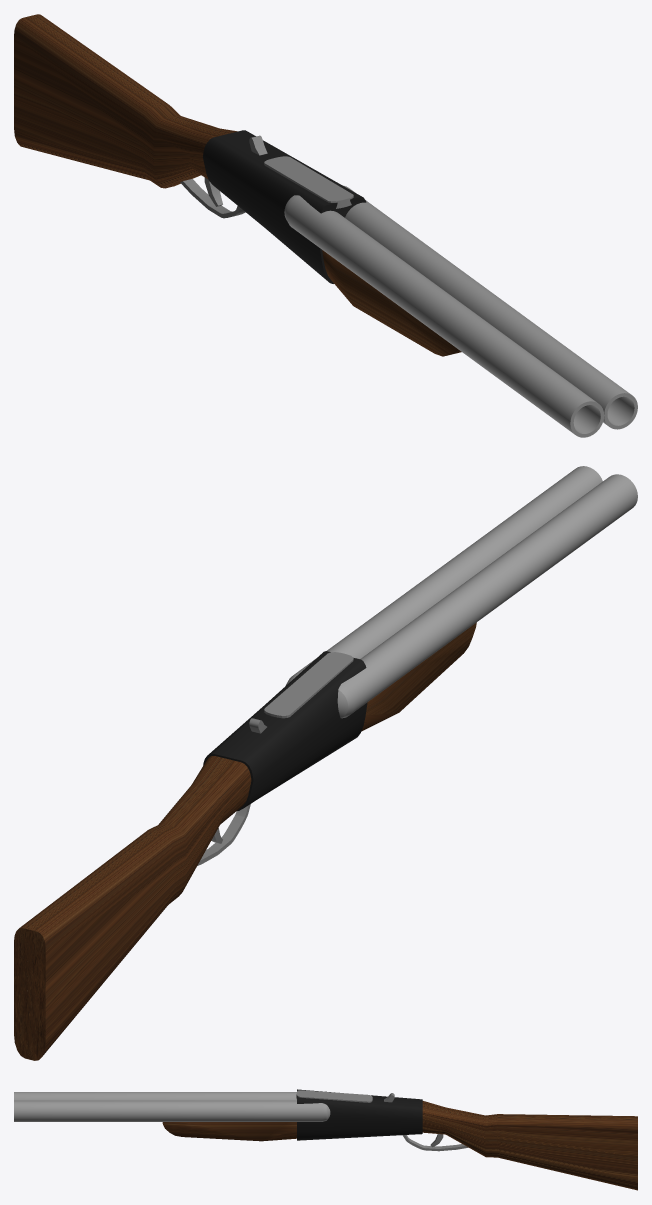
Rendered from 009ShotGun.fbx.
The picture shows the model from 3 angles, top to bottom: view 1: azimuth 30°, elevation 25°; view 2: azimuth 150°, elevation 25°; view 3: azimuth 270°, elevation 25°; orthographic projection. The views are drawn at different scales.
Parts seen in each view (by area): view 1: 立方体, 円柱.002, 円柱.001, 立方体.004, 立方体.001; view 2: 立方体, 円柱.002, 円柱.001, 立方体.004; view 3: 立方体, 円柱.001, 円柱.002, 立方体.004, 立方体.001.
Part boxes in pixels (x1,y1,x2,y2): 立方体: (14, 14, 461, 356); 円柱.002: (284, 195, 603, 437); 円柱.001: (343, 185, 637, 429); 立方体.004: (264, 156, 353, 208); 立方体.001: (180, 179, 245, 218); 立方体: (14, 622, 476, 1060); 円柱.002: (337, 474, 637, 718); 円柱.001: (285, 466, 602, 685); 立方体.004: (264, 652, 353, 718); 立方体: (162, 1089, 637, 1190); 円柱.001: (14, 1100, 330, 1121); 円柱.002: (14, 1092, 296, 1100); 立方体.004: (296, 1090, 372, 1102); 立方体.001: (402, 1135, 468, 1151).
Bounding box in the file's own units: 9.75 × 24.28 × 143.
4 materials, 1 textured.
